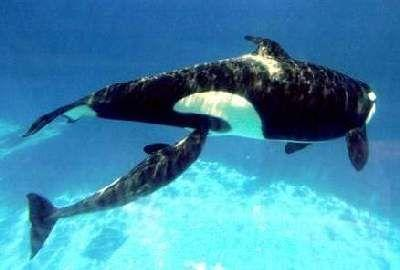fish: (27, 32, 390, 170), (13, 128, 213, 253)
